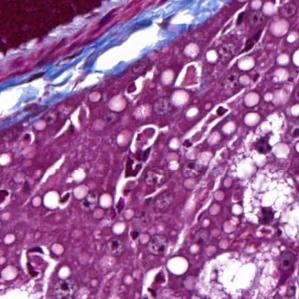ballooning: (240, 163, 296, 231)
